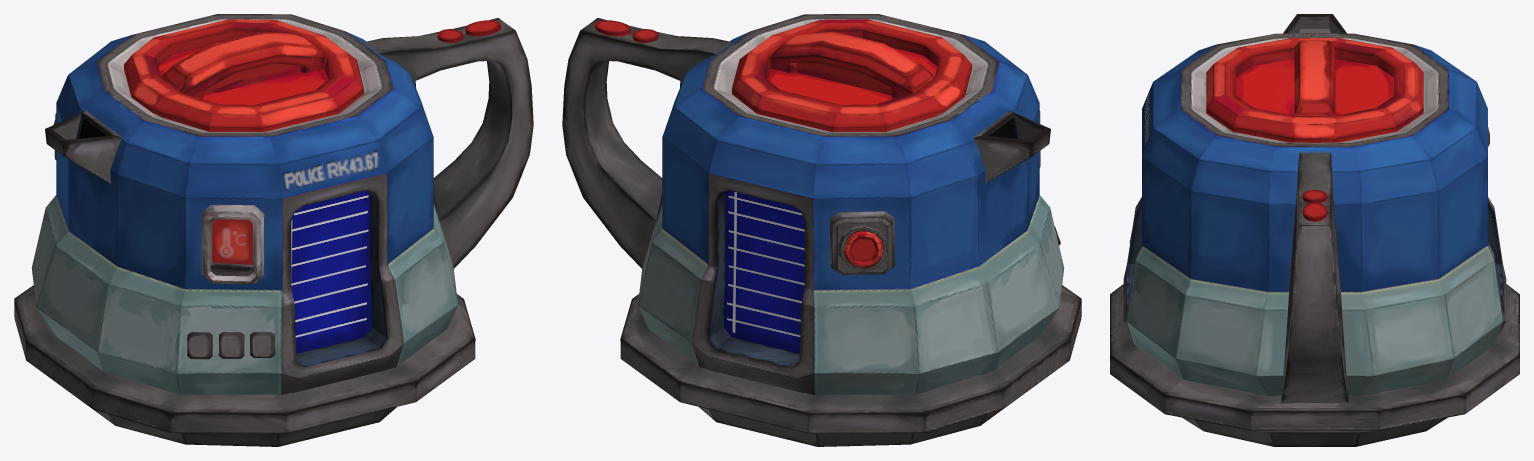
File: teapot_low.fbx
3 views of the same model, side by side, from view 1: azimuth 30°, elevation 25°; view 2: azimuth 150°, elevation 25°; view 3: azimuth 270°, elevation 25° (orthographic). The views are drawn at different scales.
Visible parts, largest first — view 1: BASE.main, ROOF, panel; view 2: BASE.main, ROOF, panel, BASE.007, red, BASE.006; view 3: BASE.main, ROOF.
Part boxes in pixels (x1,y1,x2,y2): BASE.main: [14, 14, 533, 446]; ROOF: [124, 19, 363, 131]; panel: [291, 190, 371, 353]; BASE.main: [562, 14, 1081, 446]; ROOF: [732, 19, 971, 131]; panel: [724, 190, 804, 353]; BASE.007: [829, 211, 895, 274]; red: [844, 231, 883, 267]; BASE.006: [837, 225, 887, 271]; BASE.main: [1110, 14, 1519, 446]; ROOF: [1206, 38, 1423, 142].
Bounding box in the file's own units: 285 × 225 × 193.
